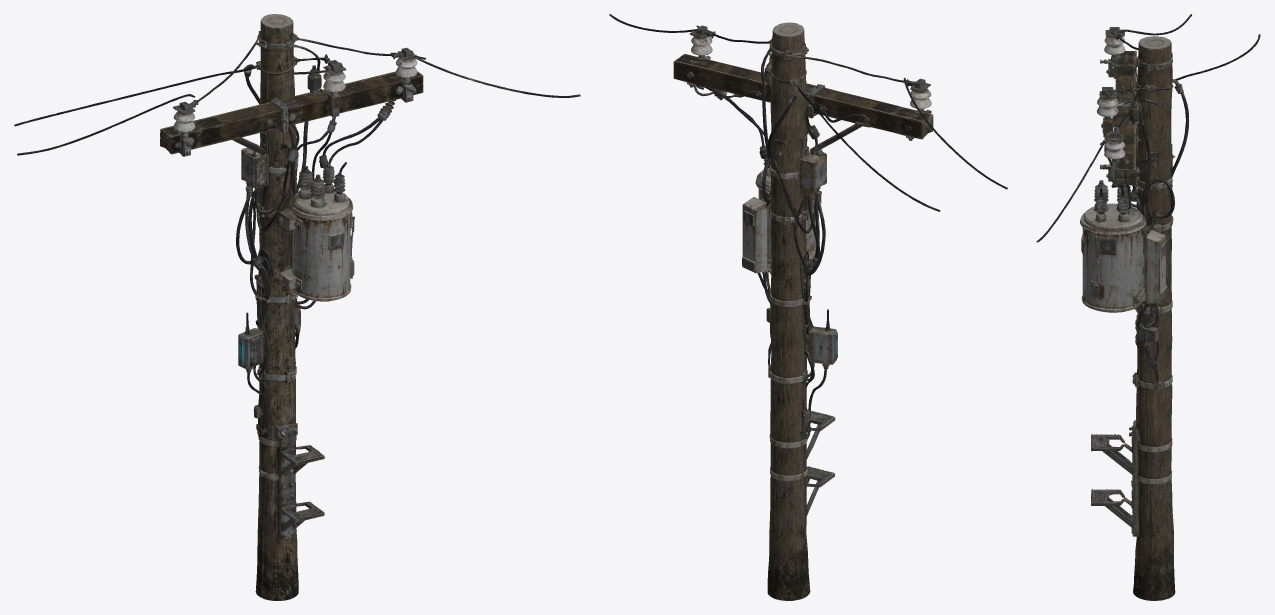
File: power_pole.glb
3 views of the same model, side by side, from view 1: azimuth 30°, elevation 25°; view 2: azimuth 150°, elevation 25°; view 3: azimuth 270°, elevation 25° (orthographic). The views are drawn at different scales.
Parts seen in each view (by area): view 1: output_unwrapped; view 2: output_unwrapped; view 3: output_unwrapped.
Boxes of the visible parts, box(x1,y1,x2,y2) form: output_unwrapped: box(14, 14, 580, 600); output_unwrapped: box(609, 14, 1007, 600); output_unwrapped: box(1036, 14, 1260, 600).
Bounding box in the file's own units: 1.68 × 1.9 × 0.7001.
1 material, 1 textured.
